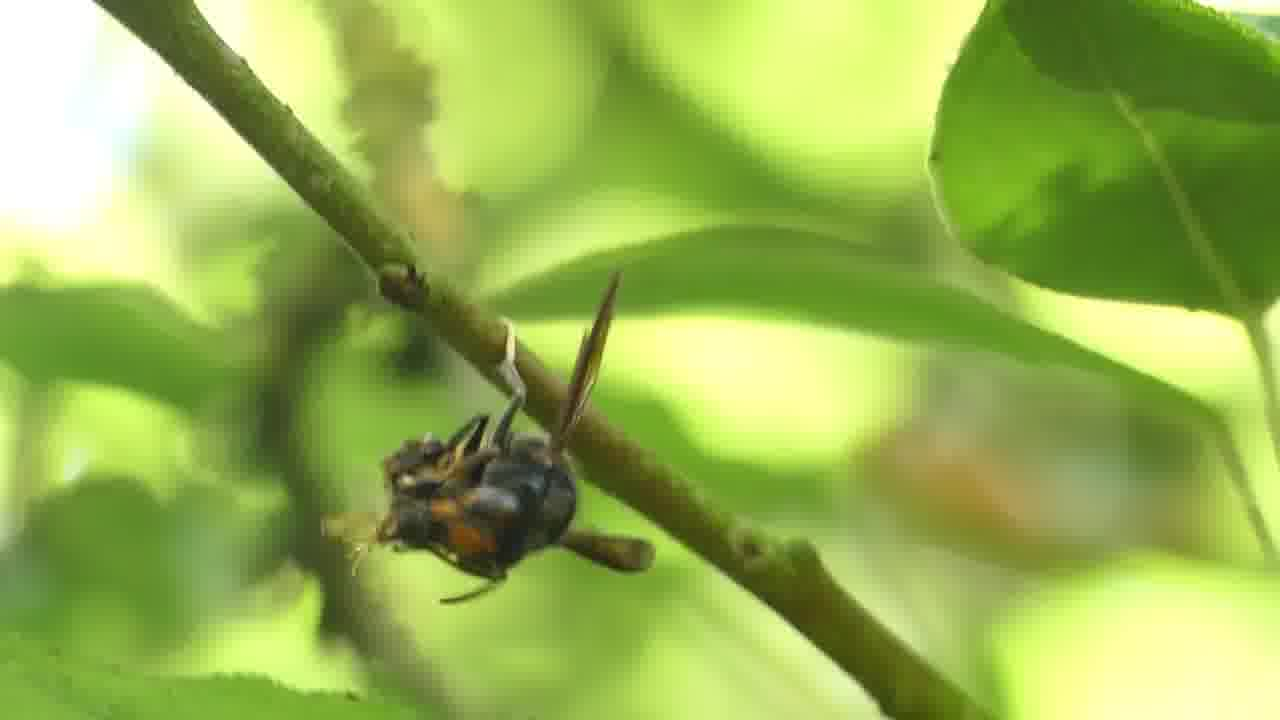hornet: (357, 339, 685, 599)
